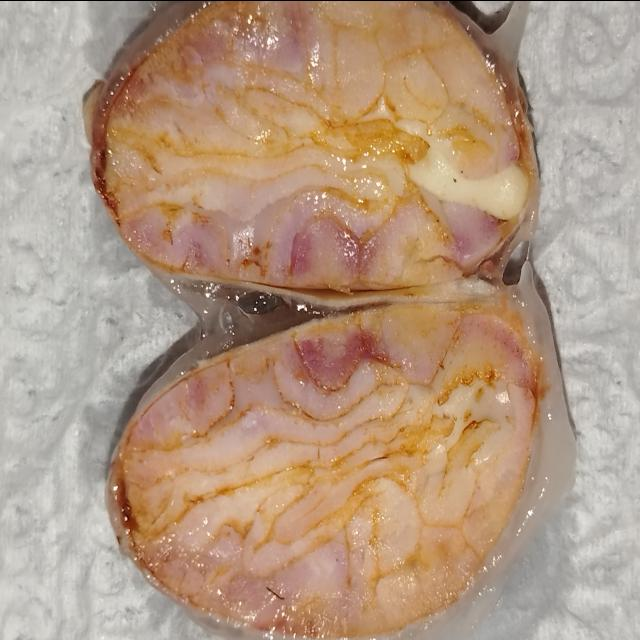Trinitario: (115, 304, 541, 636), (95, 0, 533, 292)
